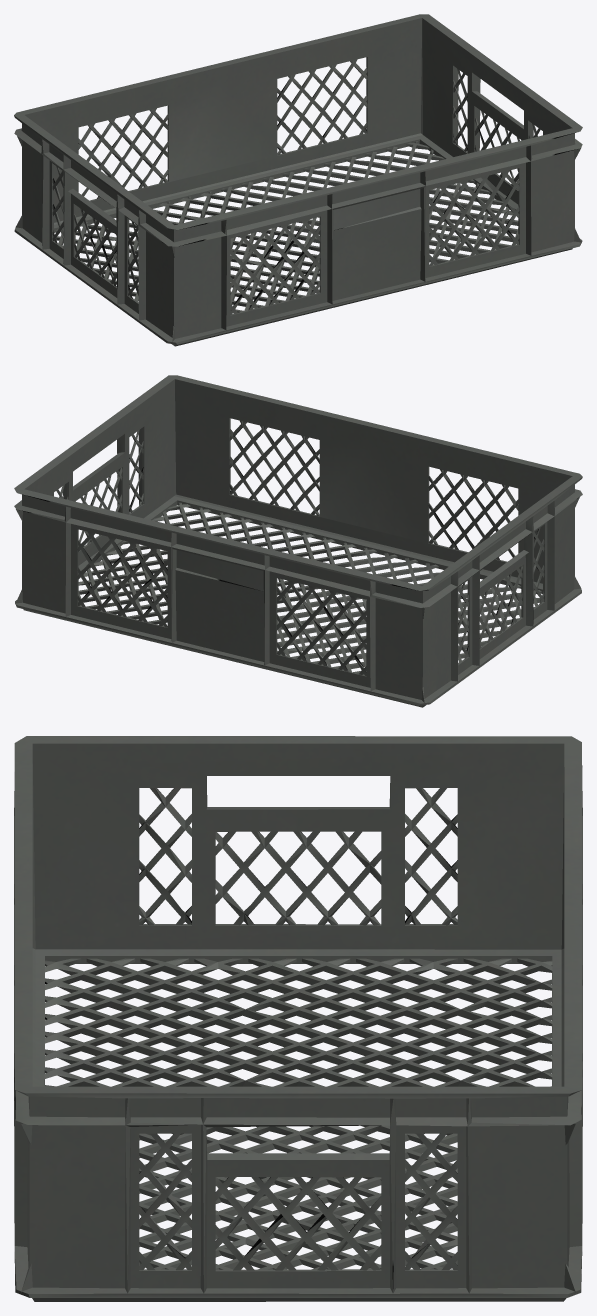
The model's file is crate_gray_a08.glb.
3 views of the same model, one above another, from view 1: azimuth 30°, elevation 25°; view 2: azimuth 150°, elevation 25°; view 3: azimuth 270°, elevation 25° (orthographic). The views are drawn at different scales.
Visible parts, largest first — view 1: crate_gray_a08_lod1; view 2: crate_gray_a08_lod1; view 3: crate_gray_a08_lod1.
Part boxes in pixels (x1,y1,x2,y2): crate_gray_a08_lod1: [14, 14, 582, 346]; crate_gray_a08_lod1: [14, 375, 582, 707]; crate_gray_a08_lod1: [14, 736, 582, 1301].
Size of the model in its own units: 0.6058 by 0.1697 by 0.4058.
Materials: 1 (1 with a texture image).
